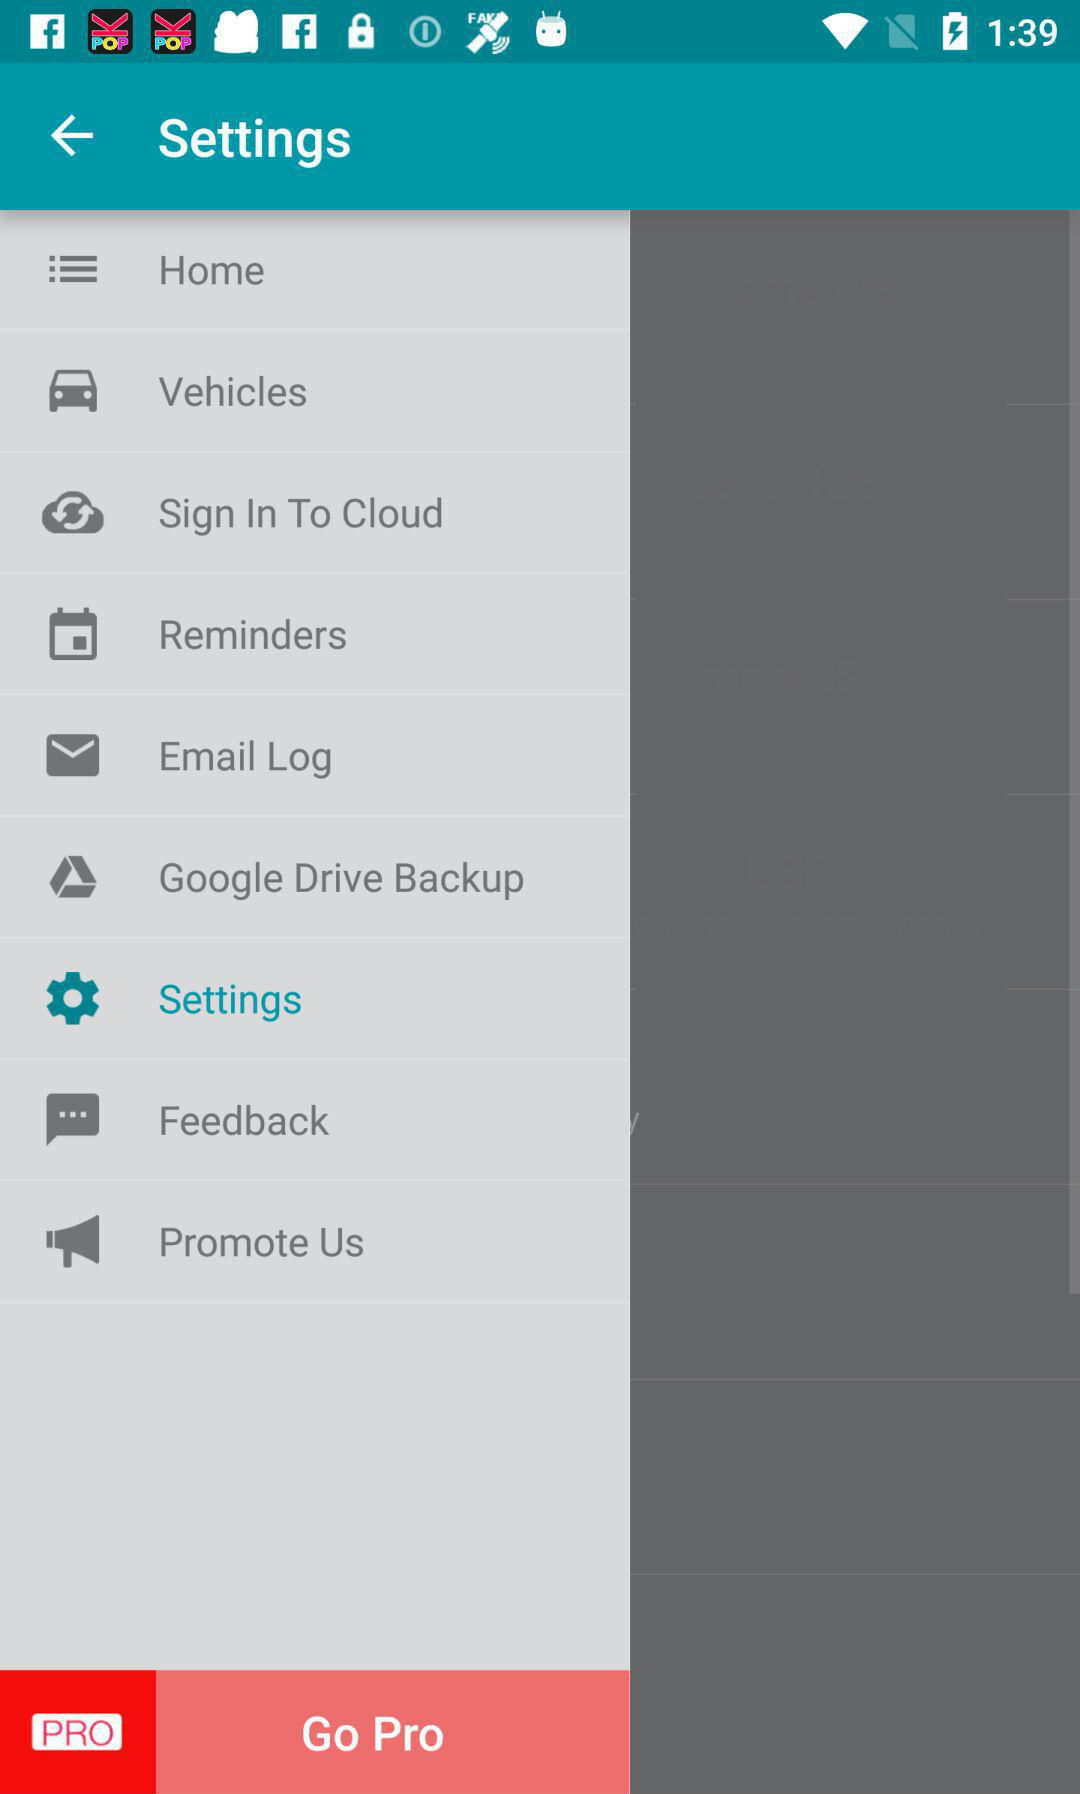Drawer: (1, 210, 632, 1794)
Icon: (47, 971, 102, 1026), (46, 1093, 101, 1147), (42, 490, 106, 536), (49, 607, 99, 662), (46, 734, 101, 778), (50, 113, 96, 158), (49, 255, 99, 284)
Image: (46, 1214, 101, 1269), (49, 369, 99, 414), (49, 855, 99, 900)
Text: (160, 861, 525, 902), (160, 496, 443, 538), (158, 117, 352, 170), (160, 739, 332, 780), (160, 616, 348, 652), (160, 1228, 366, 1258), (159, 983, 304, 1024), (161, 1105, 332, 1137), (158, 374, 307, 409), (160, 255, 266, 287)
TextButton: (1, 1668, 630, 1794)
Toolbar: (1, 64, 1080, 210)
UpperTaskBar: (1, 1, 1080, 64)
